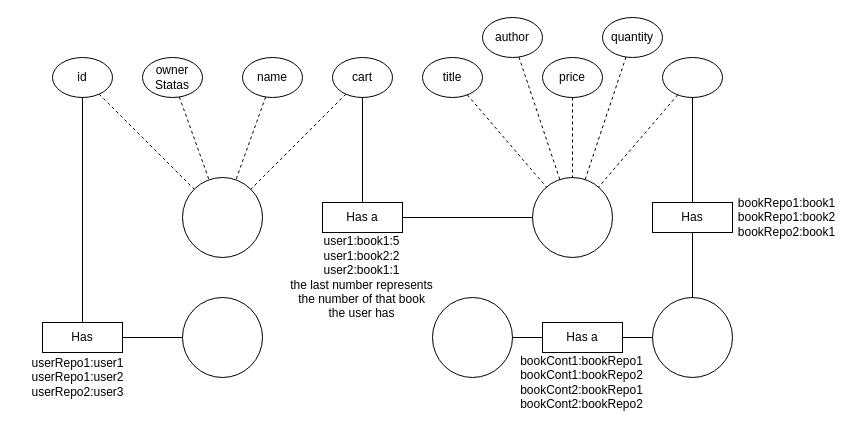
Image size: 863x435. Some labels were removed from this diagram. Here are the shapes that lost their labels. From the top down, the box of each, then its label:
(662, 56, 722, 98): isbn
(182, 176, 262, 258): User
(532, 176, 612, 258): Book
(182, 296, 262, 378): User Repository
(432, 296, 512, 378): Bookstore Controller
(652, 296, 732, 378): Bookstore Repository
